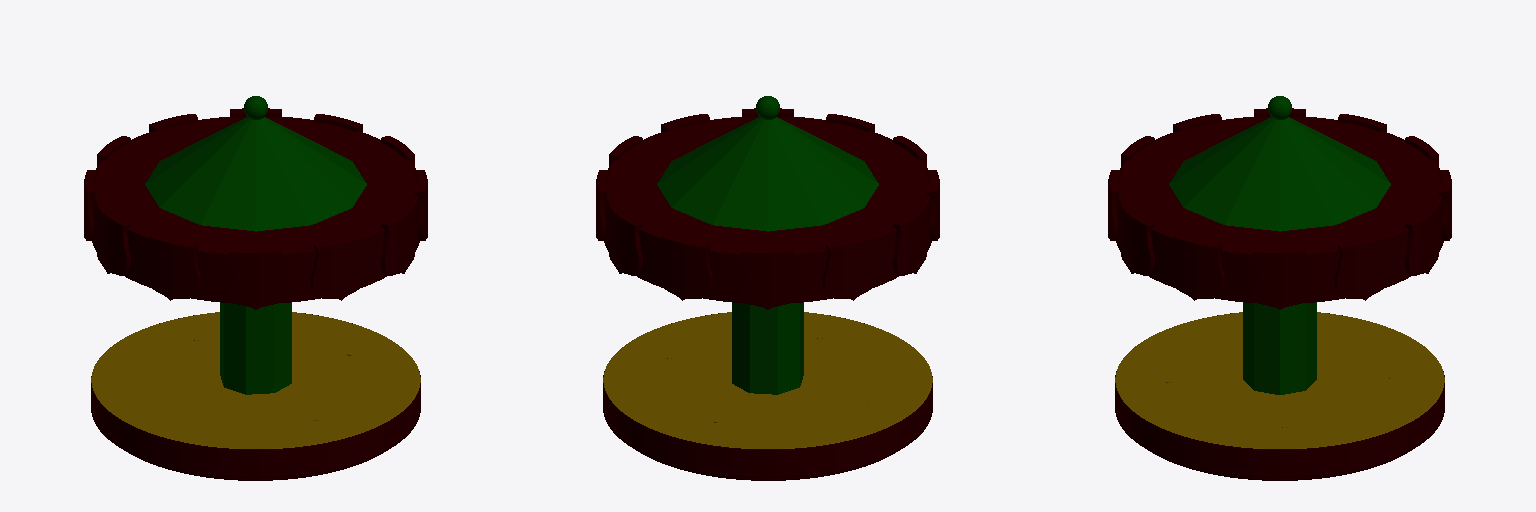
Rendered from carrossel_base.obj.
3 views of the same model, side by side, from view 1: azimuth 30°, elevation 25°; view 2: azimuth 150°, elevation 25°; view 3: azimuth 270°, elevation 25° (orthographic).
Visible parts, largest first — view 1: 16818_carousel_v1, 16818_carousel_v1.005_16818_carousel_v1.007, 16818_carousel_v1.003_16818_carousel_v1.005, 16818_carousel_v1.001_16818_carousel_v1.003, 16818_carousel_v1.002_16818_carousel_v1.004; view 2: 16818_carousel_v1, 16818_carousel_v1.005_16818_carousel_v1.007, 16818_carousel_v1.003_16818_carousel_v1.005, 16818_carousel_v1.001_16818_carousel_v1.003, 16818_carousel_v1.002_16818_carousel_v1.004; view 3: 16818_carousel_v1, 16818_carousel_v1.005_16818_carousel_v1.007, 16818_carousel_v1.003_16818_carousel_v1.005, 16818_carousel_v1.001_16818_carousel_v1.003, 16818_carousel_v1.002_16818_carousel_v1.004.
Part boxes in pixels (x1,y1,x2,y2): 16818_carousel_v1: (84,108,427,309); 16818_carousel_v1.005_16818_carousel_v1.007: (91,312,420,448); 16818_carousel_v1.003_16818_carousel_v1.005: (145,117,366,231); 16818_carousel_v1.001_16818_carousel_v1.003: (91,313,420,480); 16818_carousel_v1.002_16818_carousel_v1.004: (220,302,291,394); 16818_carousel_v1: (596,108,939,309); 16818_carousel_v1.005_16818_carousel_v1.007: (603,312,932,448); 16818_carousel_v1.003_16818_carousel_v1.005: (657,117,878,231); 16818_carousel_v1.001_16818_carousel_v1.003: (603,313,932,480); 16818_carousel_v1.002_16818_carousel_v1.004: (732,302,803,394); 16818_carousel_v1: (1108,108,1451,309); 16818_carousel_v1.005_16818_carousel_v1.007: (1115,312,1444,448); 16818_carousel_v1.003_16818_carousel_v1.005: (1169,117,1390,231); 16818_carousel_v1.001_16818_carousel_v1.003: (1115,313,1444,480); 16818_carousel_v1.002_16818_carousel_v1.004: (1243,302,1316,394).
Size of the model in its own units: 9.74 by 9.97 by 9.74.